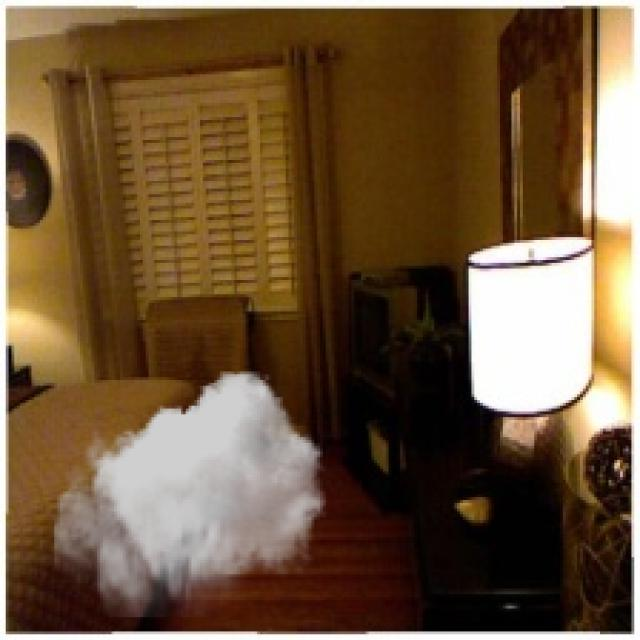smoke: (54, 372, 326, 617)
